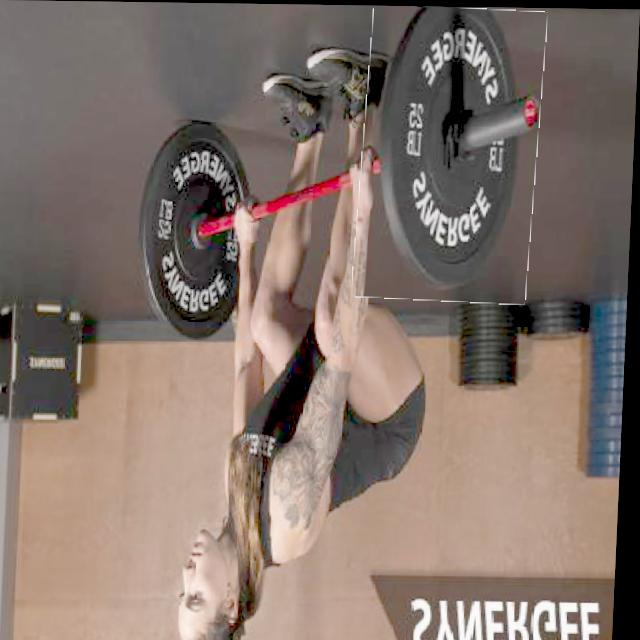barbell: (357, 5, 546, 303)
